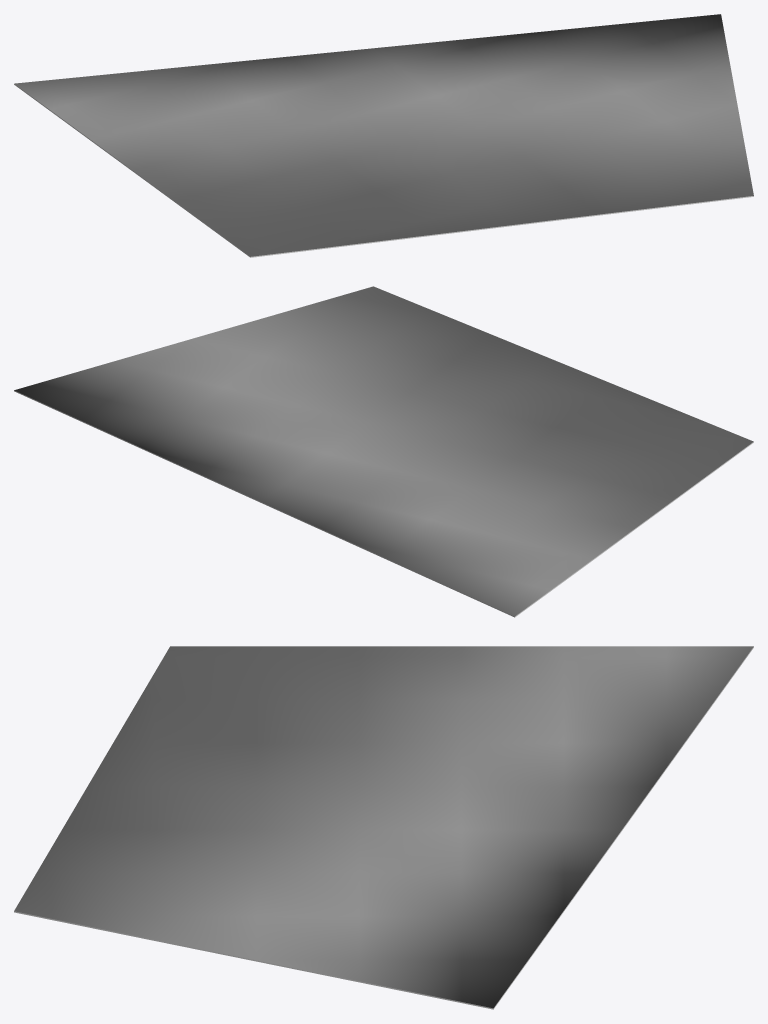
Rendered from Level 123 roll smoking pipe mouth.fbx.
3 renders of one model, top to bottom at view 1: azimuth 30°, elevation 25°; view 2: azimuth 150°, elevation 25°; view 3: azimuth 270°, elevation 25°, orthographic. The views are drawn at different scales.
Visible parts, largest first — view 1: Blend; view 2: Blend; view 3: Blend.
Part boxes in pixels (<box>): Blend: <box>14,14,753,257</box>; Blend: <box>14,286,753,617</box>; Blend: <box>14,646,753,1009</box>.
Size of what is drawn, in the model's own units: 618 by 1 by 534.
